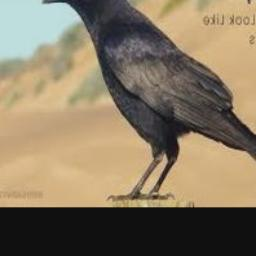Crow: (43, 0, 256, 201)
